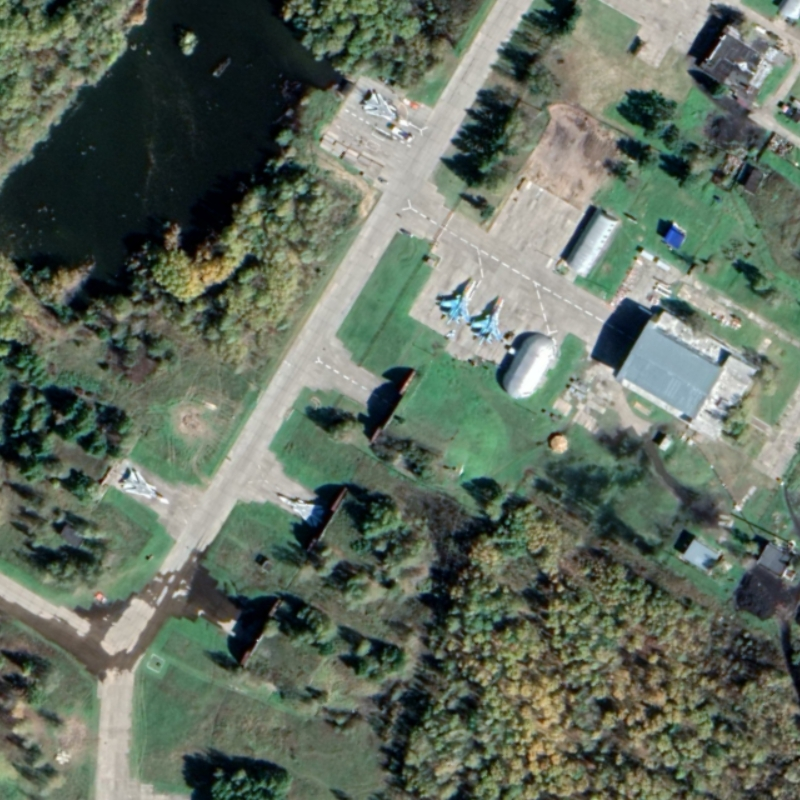A19: (433, 275, 478, 328), (469, 295, 506, 345)
A20: (116, 466, 173, 506), (358, 87, 413, 128), (275, 491, 325, 528)
